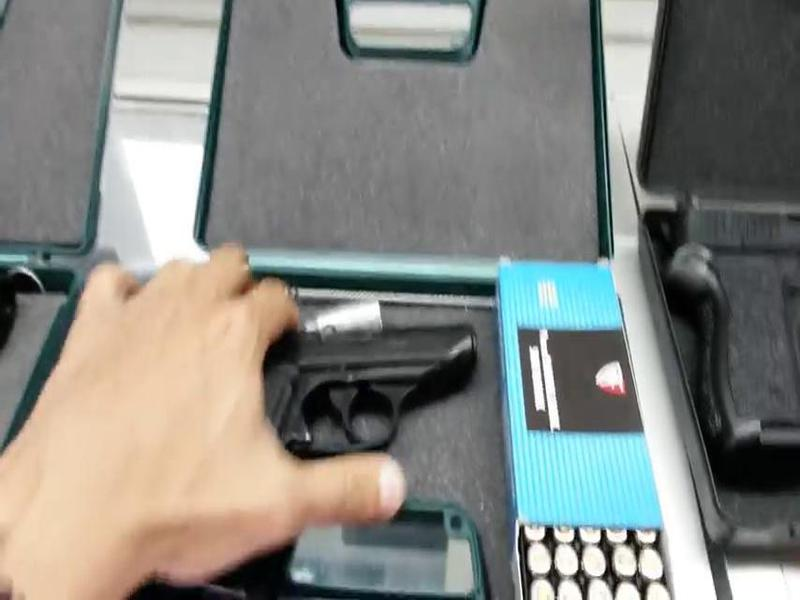Pistola: (207, 308, 497, 564)
